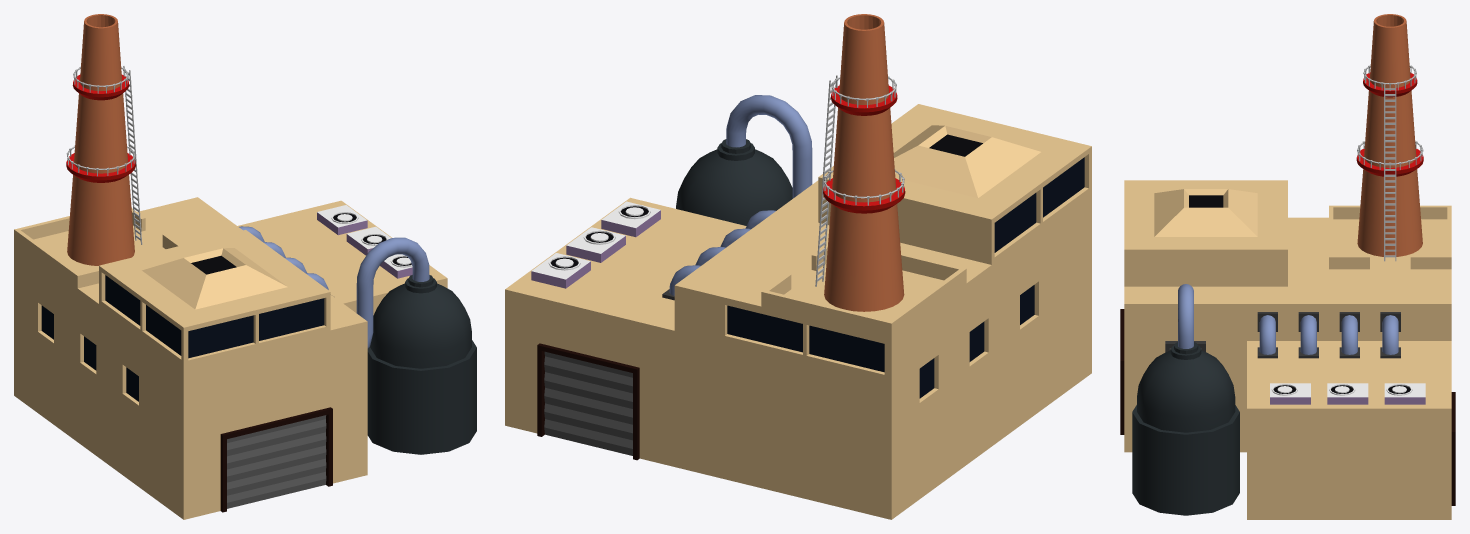
Rendered from Factory.FBX.
3 views of the same model, side by side, from view 1: azimuth 30°, elevation 25°; view 2: azimuth 150°, elevation 25°; view 3: azimuth 270°, elevation 25° (orthographic). The views are drawn at different scales.
Visible parts, largest first — view 1: Base, Tank, LongTube, MainDoor, Windows, Roof, TankTube, Rings, Stairs, Conditioneer3; view 2: Base, LongTube, BackDoor, Windows, Roof, Tank, TankTube, Rings, Stairs, Conditioneer2, Conditioneer1, Conditioneer3; view 3: Base, Tank, LongTube, Roof, Stairs, Rings, TankTube, WaterTube3, WaterTube4, WaterTube2, WaterTube1, MainDoor (+4 smaller).
Part boxes in pixels (x1,y1,x2,y2): Base: (14, 197, 447, 519); Tank: (367, 275, 476, 454); LongTube: (67, 14, 134, 265); MainDoor: (220, 407, 332, 512); Windows: (41, 275, 324, 401); Roof: (142, 248, 287, 309); TankTube: (356, 237, 429, 348); Rings: (66, 74, 135, 182); Stairs: (123, 66, 142, 244); Conditioneer3: (317, 205, 366, 227); Base: (505, 104, 1091, 519); LongTube: (824, 14, 904, 311); BackDoor: (537, 343, 639, 460); Windows: (727, 157, 1084, 398); Roof: (893, 125, 1040, 197); Tank: (676, 139, 792, 225); TankTube: (726, 95, 812, 198); Rings: (823, 85, 905, 213); Stairs: (815, 75, 837, 286); Conditioneer2: (566, 227, 625, 253); Conditioneer1: (601, 201, 660, 227); Conditioneer3: (531, 253, 590, 279); Base: (1124, 180, 1451, 519); Tank: (1132, 342, 1239, 515); LongTube: (1357, 14, 1422, 256); Roof: (1154, 189, 1257, 236); Stairs: (1384, 84, 1396, 261); Rings: (1356, 72, 1423, 176); TankTube: (1178, 284, 1193, 348); WaterTube3: (1341, 315, 1357, 354); WaterTube4: (1382, 315, 1398, 354); WaterTube2: (1300, 315, 1316, 354); WaterTube1: (1259, 315, 1275, 354); MainDoor: (1120, 309, 1124, 434).
Size of the model in its own units: 445 by 501 by 410.
